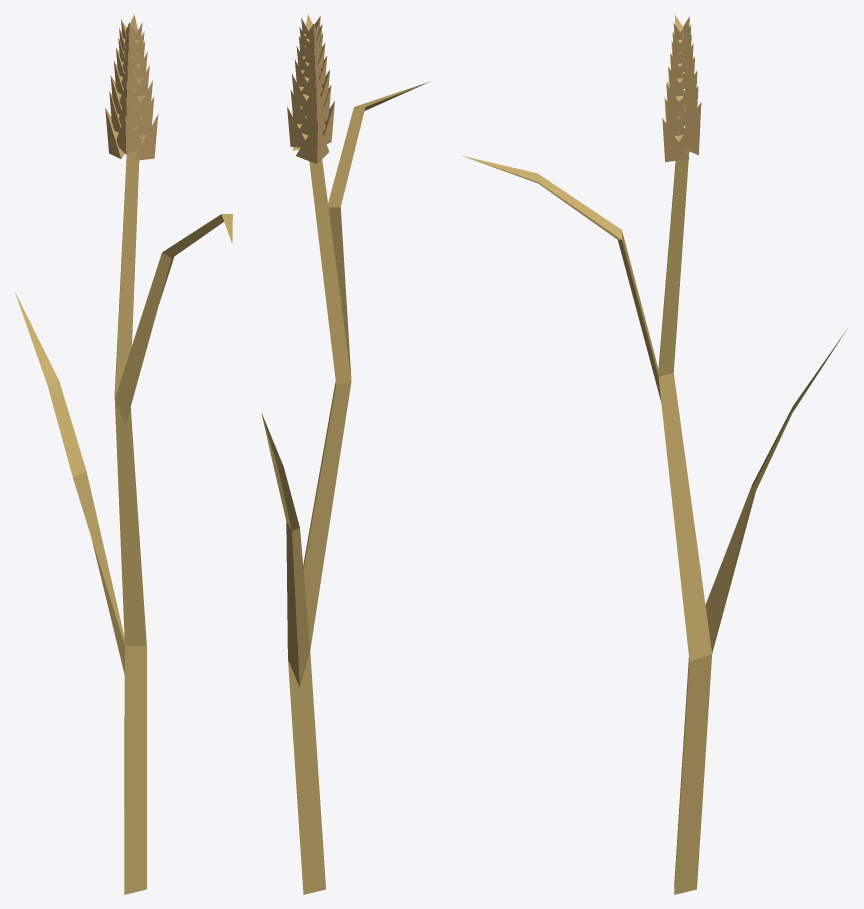
Rendered from wheat4.fbx.
3 renders of one model, left to right at view 1: azimuth 30°, elevation 25°; view 2: azimuth 150°, elevation 25°; view 3: azimuth 270°, elevation 25°, orthographic.
Visible parts, largest first — view 1: Cylinder; view 2: Cylinder; view 3: Cylinder.
Part boxes in pixels (bbox=[...]): Cylinder: bbox=[15, 14, 232, 894]; Cylinder: bbox=[261, 14, 429, 894]; Cylinder: bbox=[463, 14, 846, 894].
Size of the model in its own units: 4.84 by 63.9 by 25.84.
